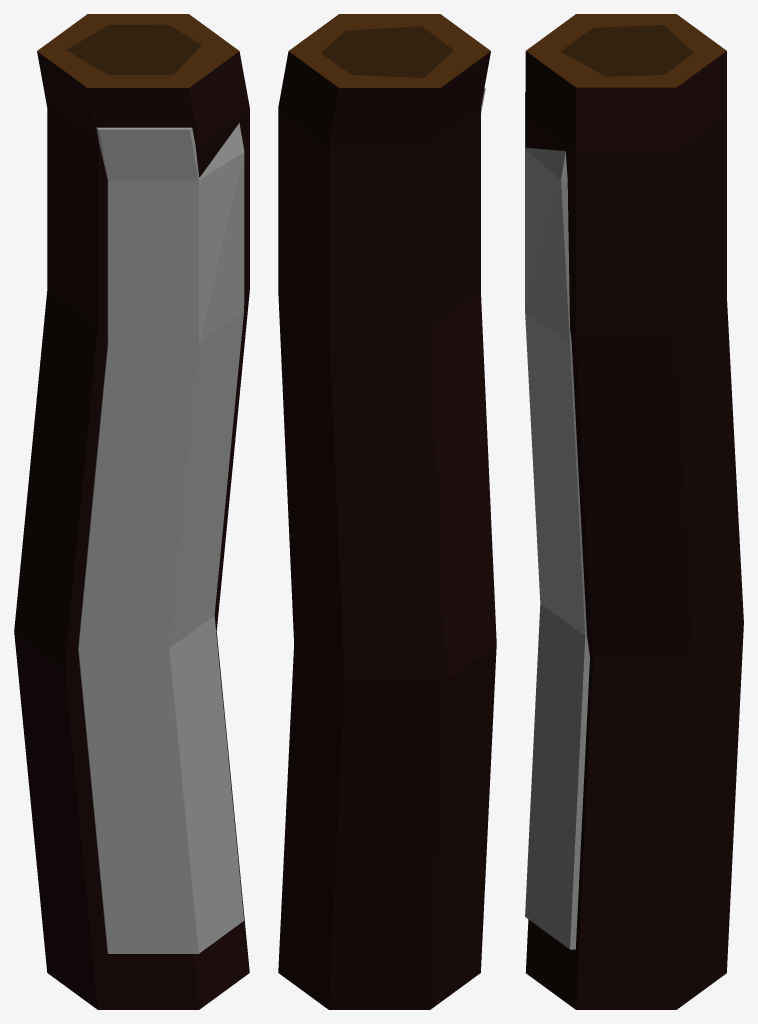
The picture shows the model from 3 angles, left to right: view 1: azimuth 30°, elevation 25°; view 2: azimuth 150°, elevation 25°; view 3: azimuth 270°, elevation 25°; orthographic projection.
Visible parts, largest first — view 1: forest25_2; view 2: forest25_2; view 3: forest25_2.
Boxes of the visible parts, x1,y1,x2,y2 form: forest25_2: (14, 14, 249, 1009); forest25_2: (278, 14, 496, 1009); forest25_2: (525, 14, 743, 1009).
Size of the model in its own units: 54.59 by 59.1 by 273.
